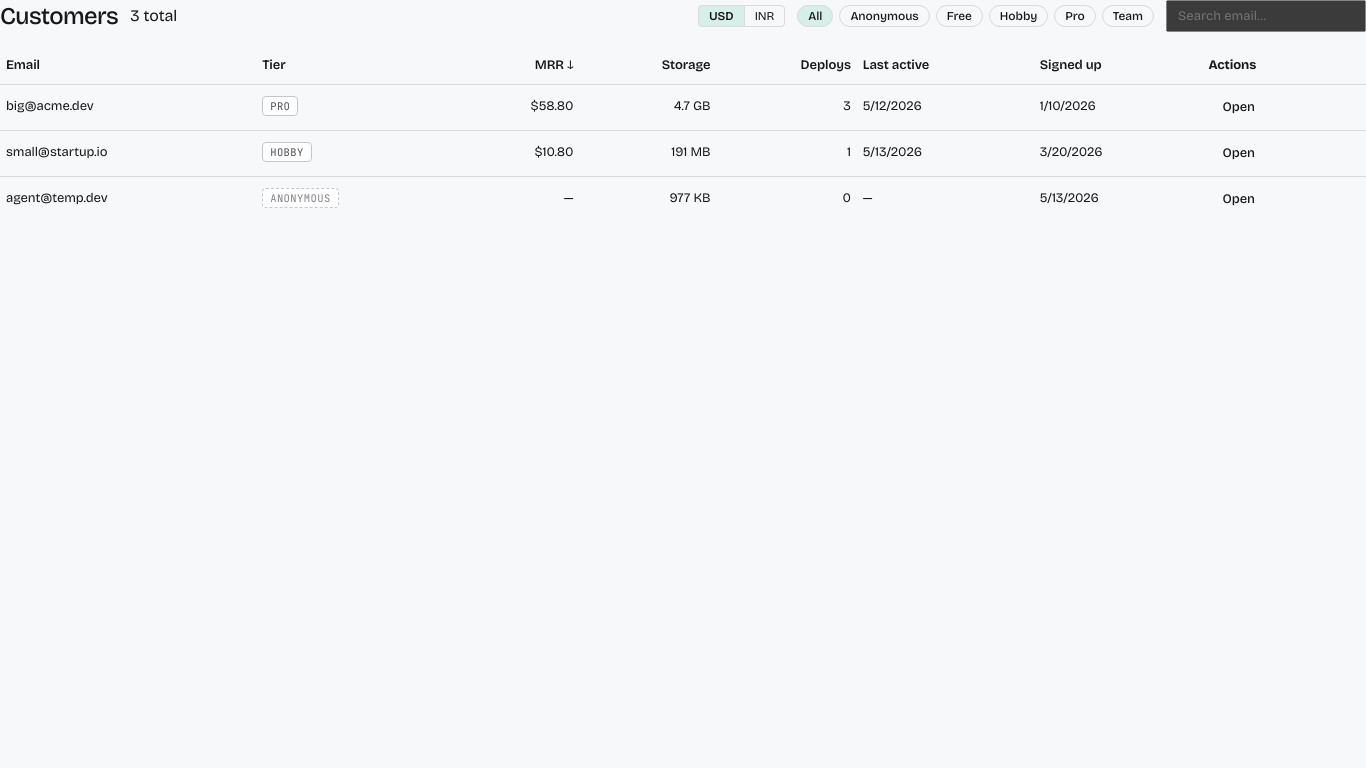
Test: AdminCustomersPage — drawer › drawer close button removes the drawer
Click the row with test id "admin-customer-row-t_big". click: (683,107)
box: [0, 84, 1365, 130]
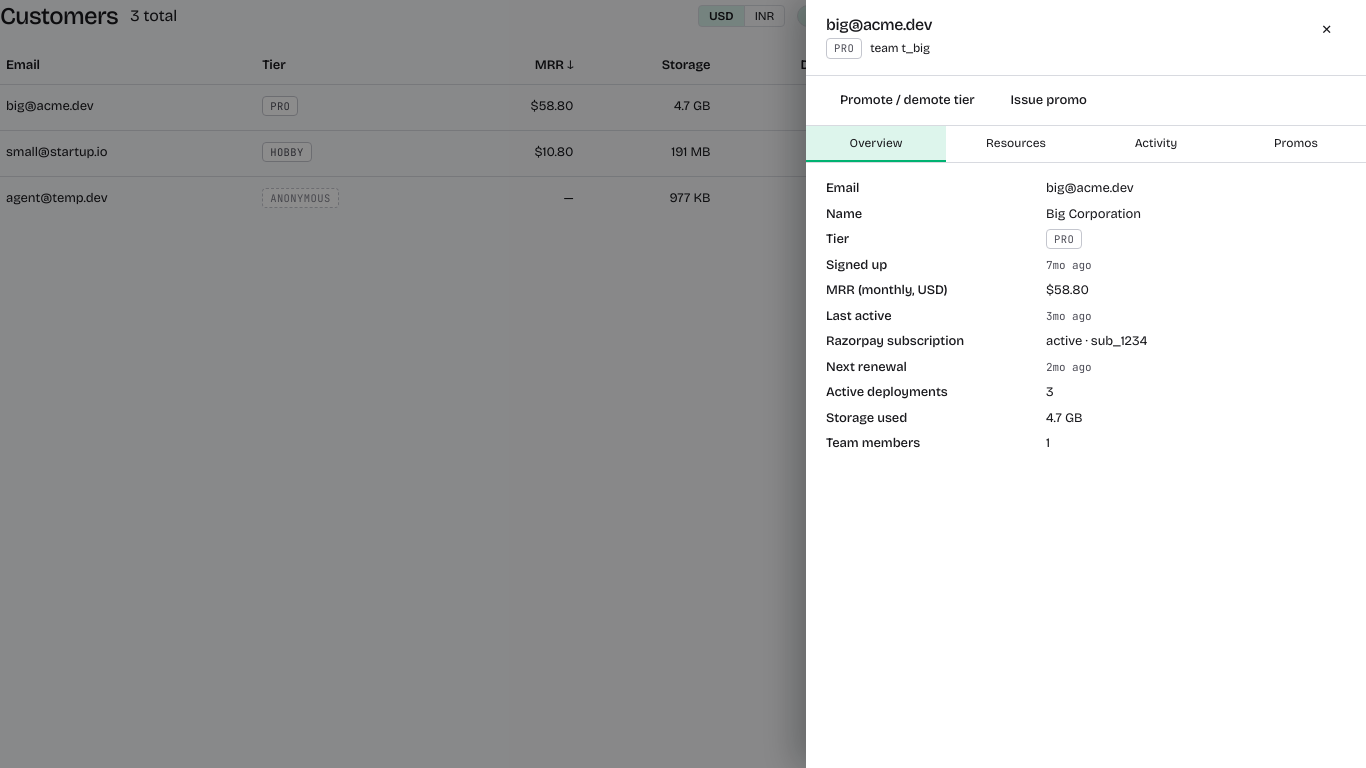
expect the dialog with test id "customer-drawer" is shown: met, box [806, 0, 1365, 767]
Click the button with test id "drawer-close". click: (1327,30)
box: [1307, 16, 1346, 45]
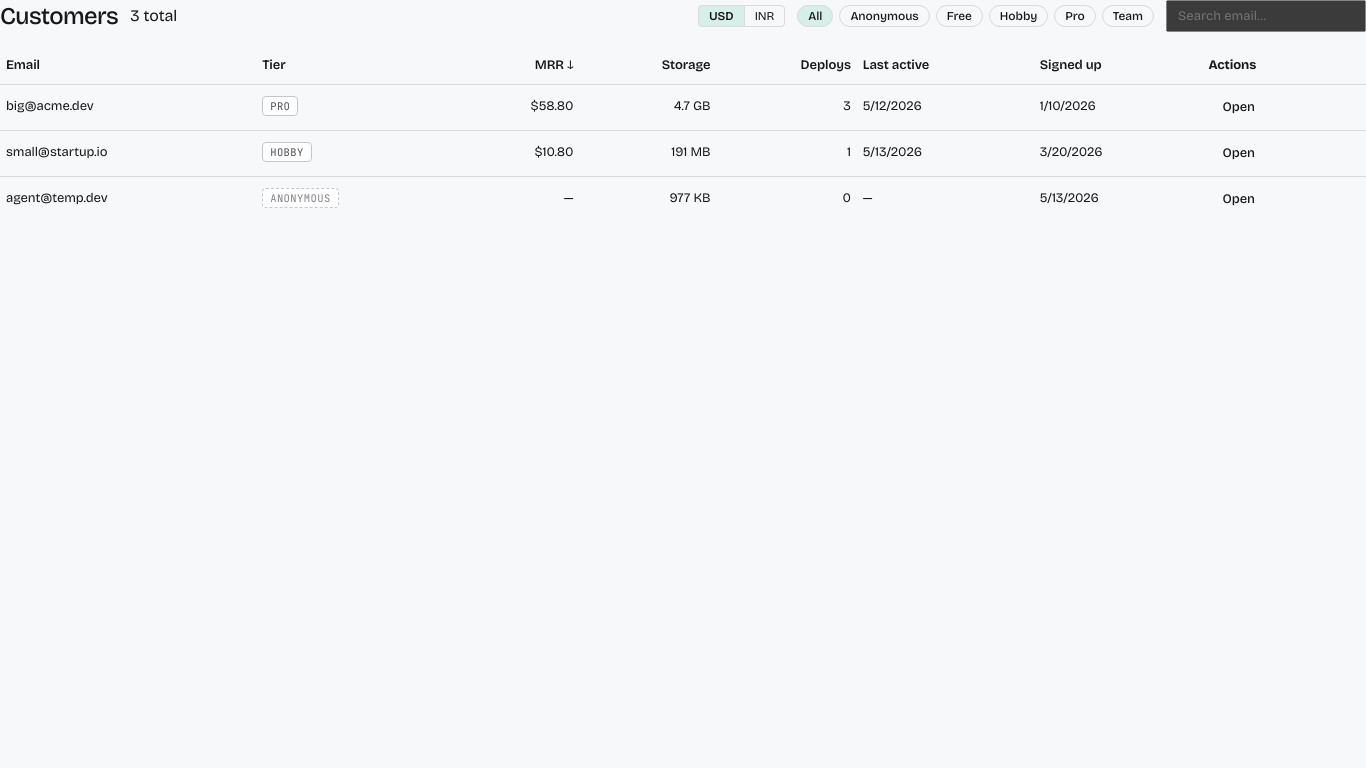
expect the dialog with test id "customer-drawer" is gone: met
